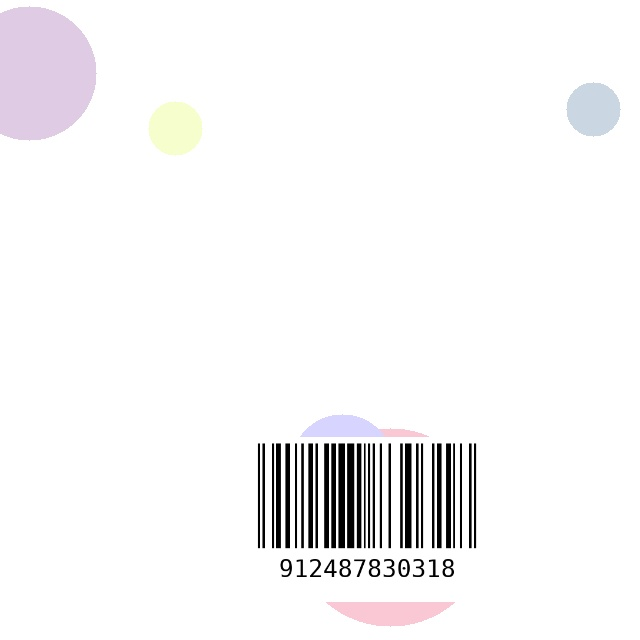barcode: (213, 437, 521, 602)
